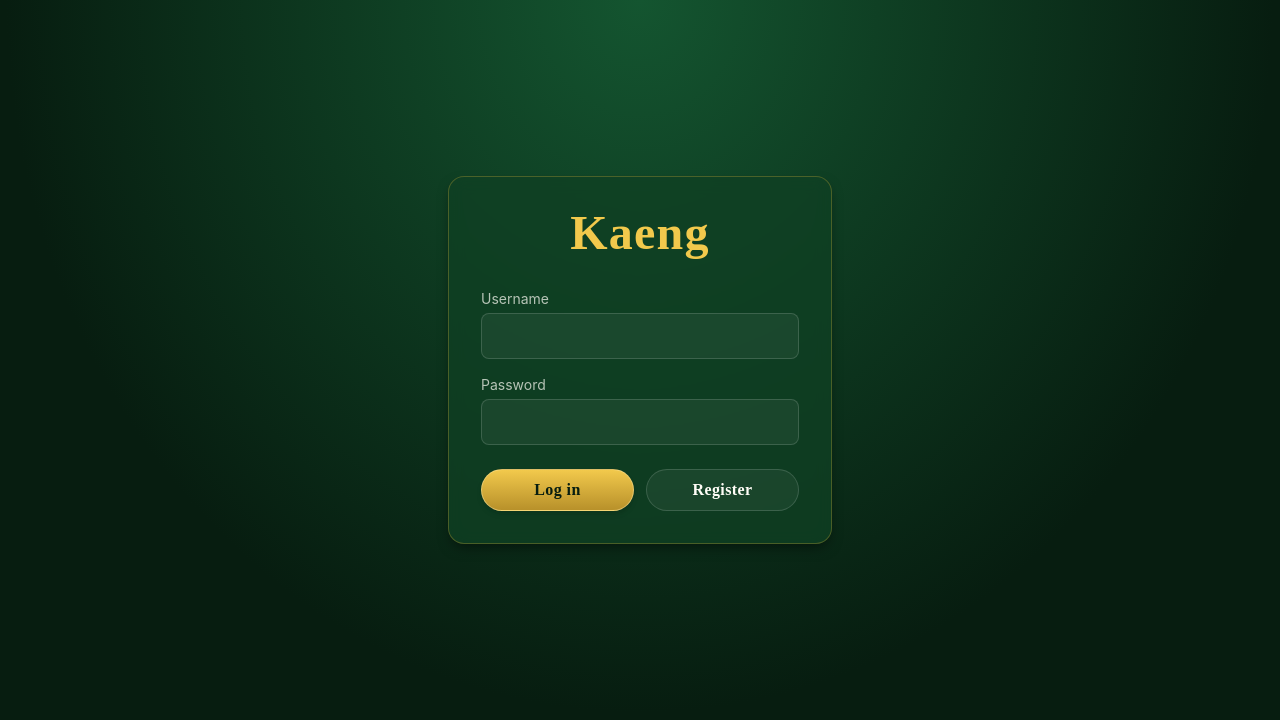
Test case: Login screen › shows the error message when login fails
In the field labelled "Username": [640, 336] box [481,313,799,359], type "alice"
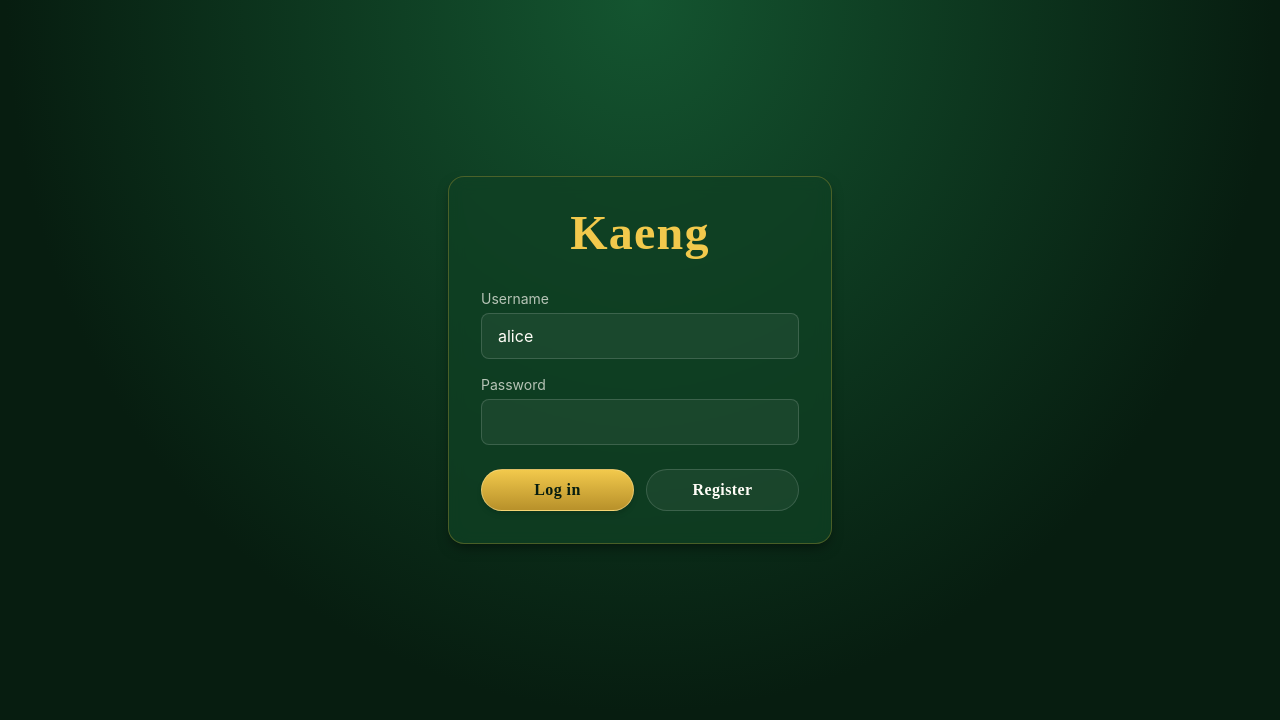
In the password field labelled "Password": [640, 422] box [481,399,799,445], type "wrong"
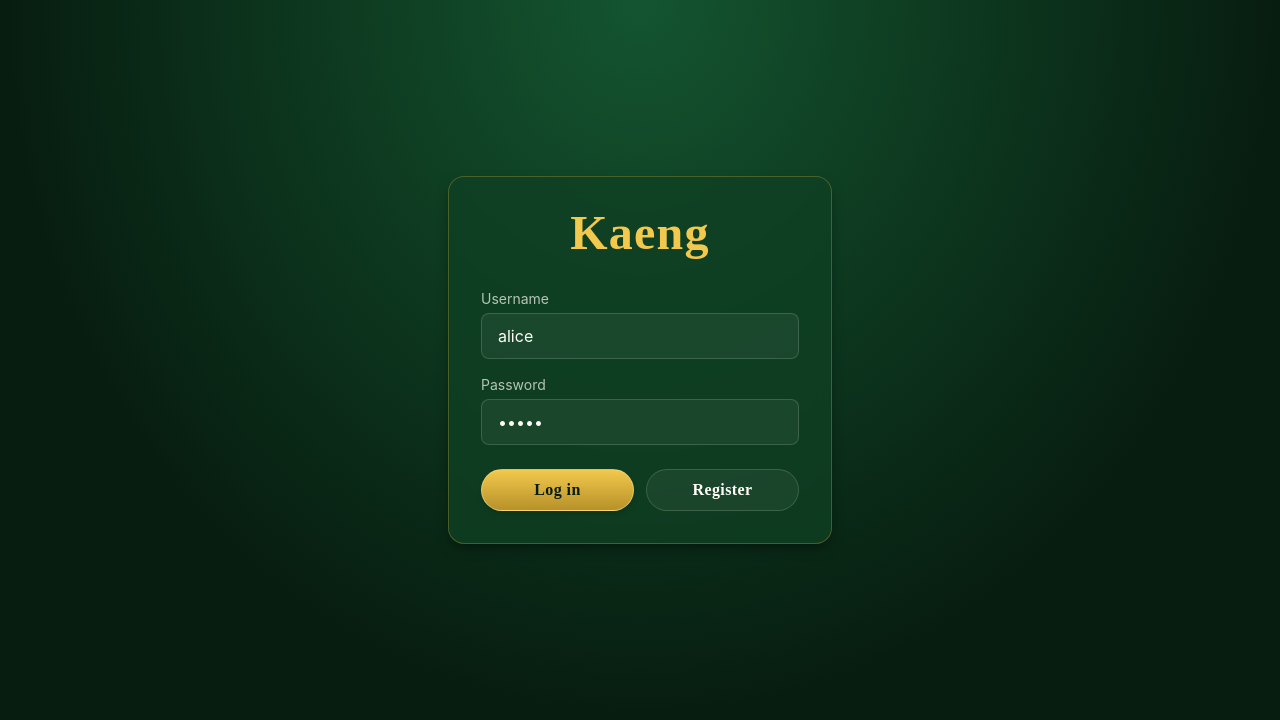
Click the button "Log in": [558, 490] box [481,469,634,511]
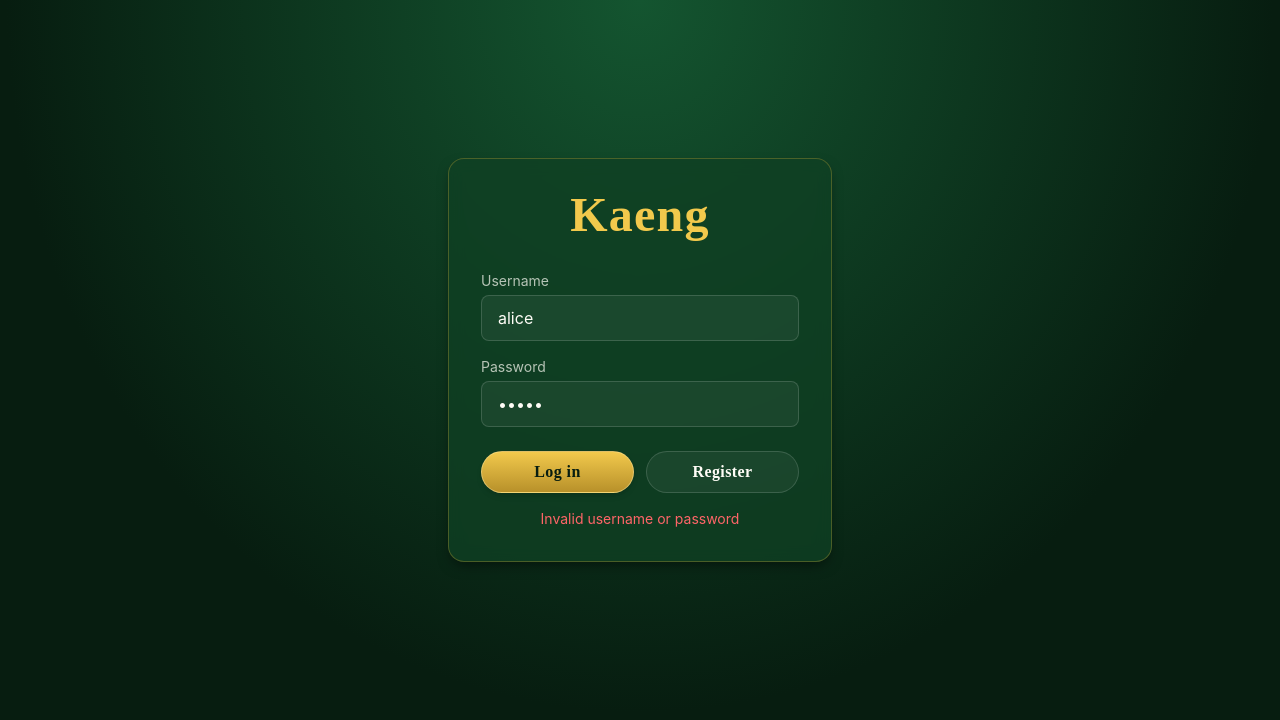
expect the text "Invalid username or password" is shown: met, box [541,510,739,527]
